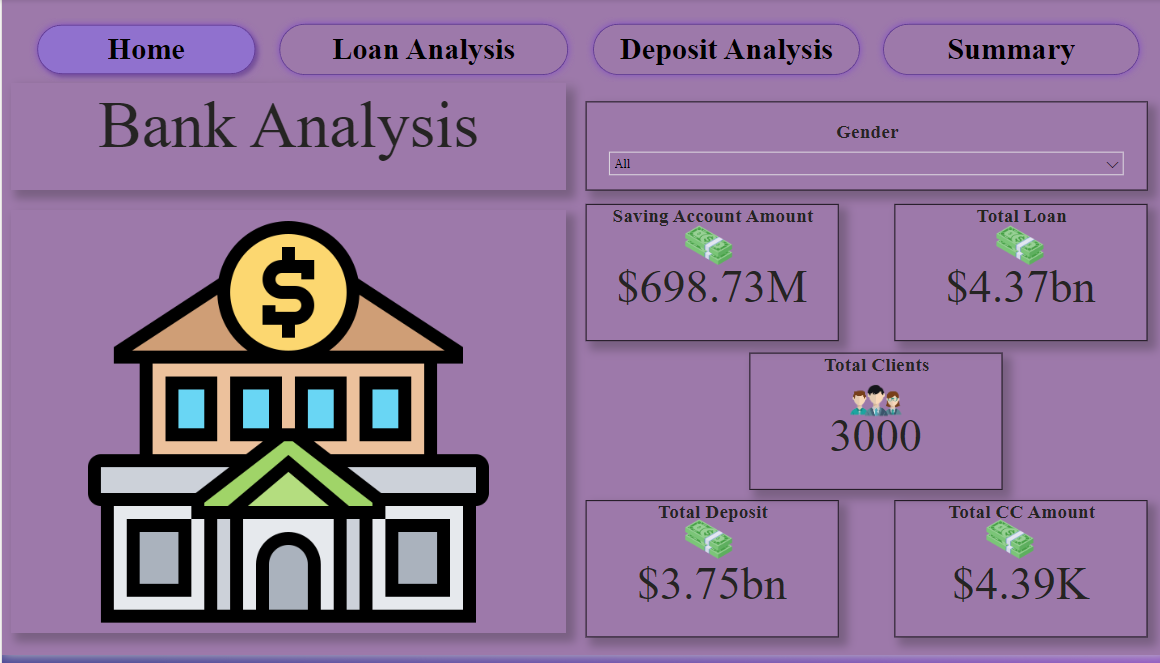

Layout of this report page (visuals, bound fields, positions):
{"tool":"powerbi","page":{"name":"Home","canvas":[1280,720],"ordinal":0},"visuals":[{"type":"slicer","title":"Gender","fields":{"Values":["Clients - Banking.Gender"]},"box":[640.6,112,616.5,97.8],"z":0},{"type":"card","title":"Saving Account Amount","fields":{"Values":["Banking Relationship.Saving Account Amount"]},"box":[640.6,225.4,277.8,150.2],"z":1000},{"type":"shape","box":[9.9,19.8,297.6,72.3],"z":2000},{"type":"card","title":"Total Loan","fields":{"Values":["Banking Relationship.Total Loan"]},"box":[979.4,225.4,277.8,150.2],"z":3000},{"type":"card","title":"Total Clients","fields":{"Values":["CountNonNull(Clients - Banking.Client ID)"]},"box":[820.6,388.3,277.8,150.2],"z":4000},{"type":"card","title":"Total Deposit","fields":{"Values":["Banking Relationship.Total Deposit"]},"box":[640.6,549.9,277.8,150.2],"z":5000},{"type":"card","title":"Total CC Amount","fields":{"Values":["Banking Relationship.Total CC Amount"]},"box":[979.4,549.9,277.8,150.2],"z":6000},{"type":"shape","box":[959.5,19.8,297.6,72.3],"z":7000},{"type":"image","box":[884.4,415.3,148.8,48.2],"z":8000},{"type":"image","box":[703,238.1,146,63.8],"z":9000},{"type":"image","box":[1044.6,238.1,146,63.8],"z":10000},{"type":"image","box":[9.6,231.9,609.3,463.8],"z":11000},{"type":"textbox","box":[9.9,92.1,609.4,117.6],"z":12000},{"type":"image","box":[703,561.3,146,63.8],"z":13000},{"type":"image","box":[1033.2,561.3,146,63.8],"z":14000},{"type":"shape","box":[640.6,19.8,309,72.3],"z":15000},{"type":"shape","box":[296.2,19.8,333.1,72.3],"z":16000}]}

Visuals, with their boxes in screenshot pixels (x1, y1, x2, y2), scaled from the page's 1280x720 canvas onto the 1160x663 screenshot:
"Gender" slicer: Rect(581, 103, 1139, 193)
"Saving Account Amount" card: Rect(581, 208, 832, 346)
shape: Rect(9, 18, 279, 85)
"Total Loan" card: Rect(888, 208, 1139, 346)
"Total Clients" card: Rect(744, 358, 995, 496)
"Total Deposit" card: Rect(581, 506, 832, 645)
"Total CC Amount" card: Rect(888, 506, 1139, 645)
shape: Rect(870, 18, 1139, 85)
image: Rect(801, 382, 936, 427)
image: Rect(637, 219, 769, 278)
image: Rect(947, 219, 1079, 278)
image: Rect(9, 214, 561, 641)
textbox: Rect(9, 85, 561, 193)
image: Rect(637, 517, 769, 576)
image: Rect(936, 517, 1069, 576)
shape: Rect(581, 18, 861, 85)
shape: Rect(268, 18, 570, 85)
